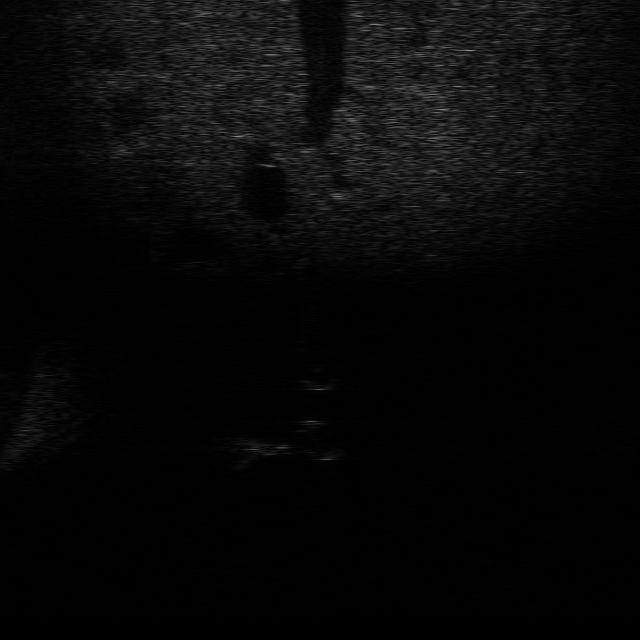ball: (292, 358, 346, 392)
square cage: (214, 431, 298, 470)
tyre: (287, 416, 353, 464)
